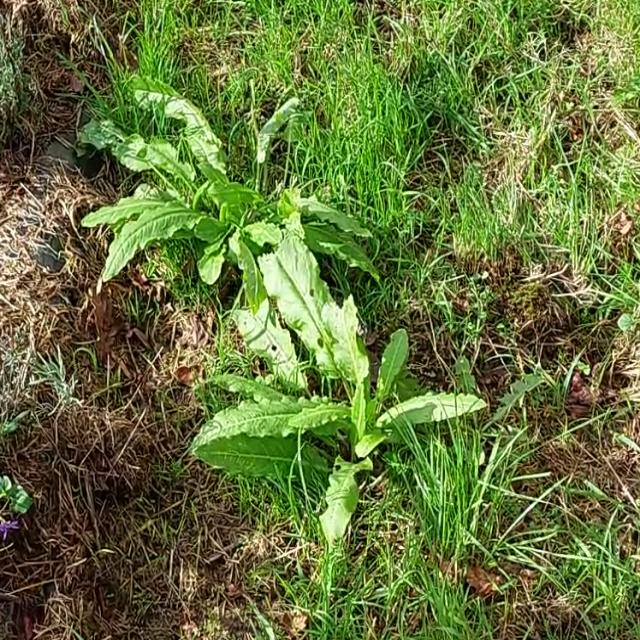organic waste: (198, 240, 493, 546), (74, 60, 379, 334)
